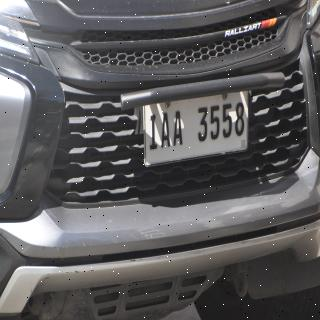license: (144, 92, 250, 168)
